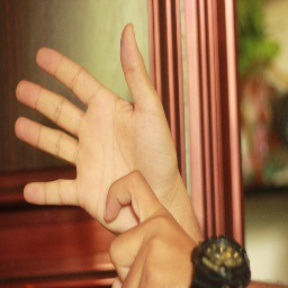R: (12, 23, 193, 286)
